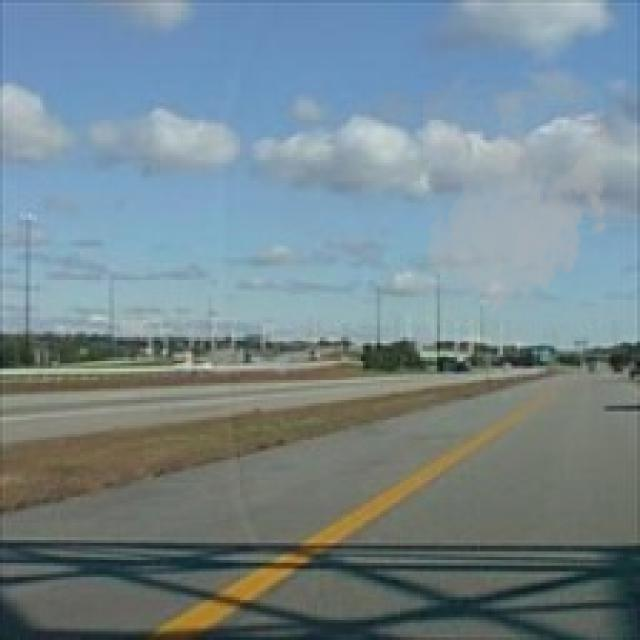smoke: (420, 91, 620, 323)
